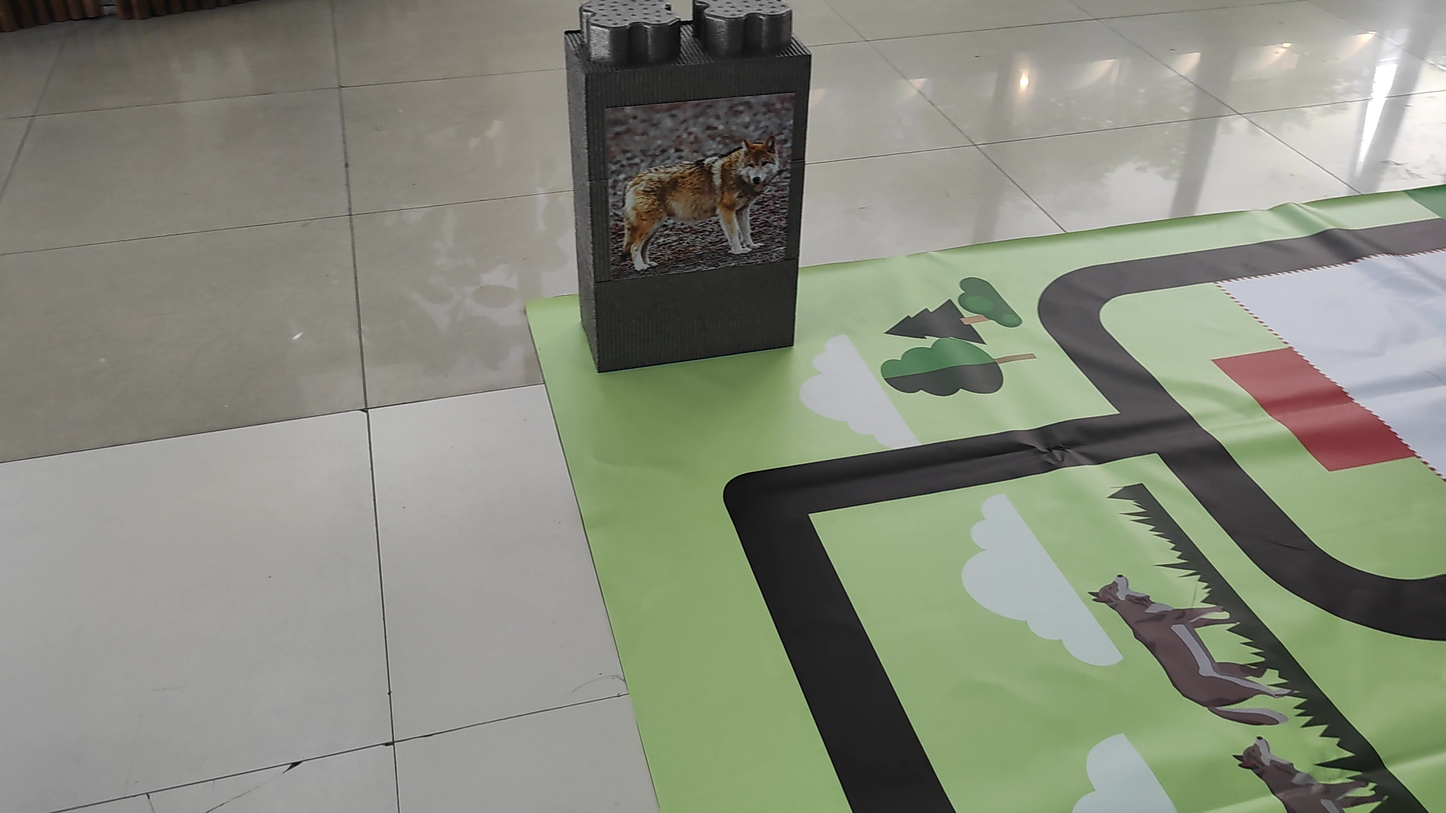wolf: (613, 112, 784, 280)
